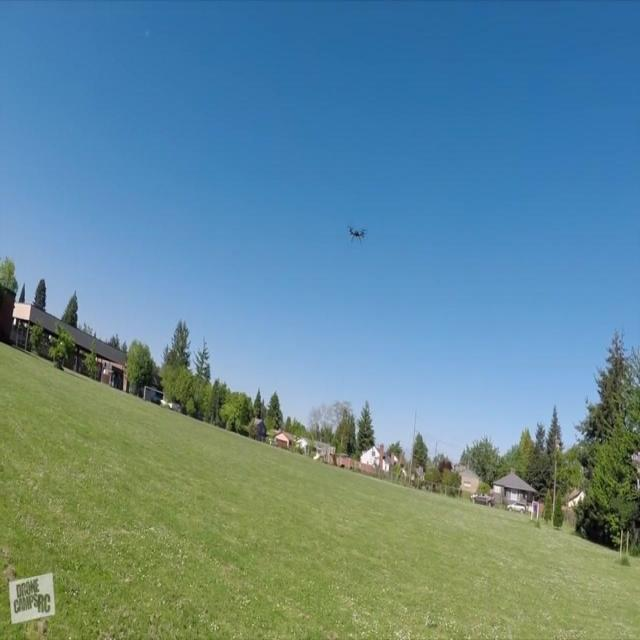UAV: (347, 226, 367, 243)
